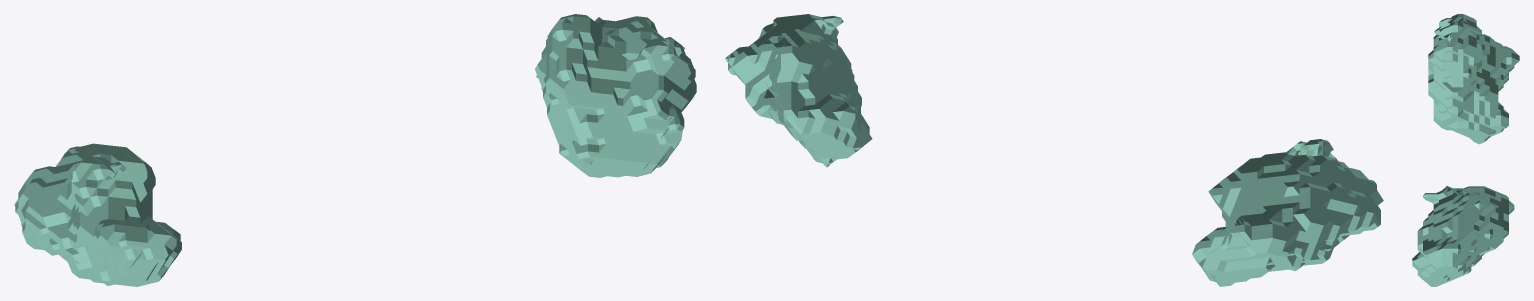
File: region_0183_Vmv__trigeminal_motor_nucleus__ventral_part_.glb
The picture shows the model from 3 angles, left to right: view 1: azimuth 30°, elevation 25°; view 2: azimuth 150°, elevation 25°; view 3: azimuth 270°, elevation 25°; orthographic projection. The views are drawn at different scales.
Visible parts, largest first — view 1: world; view 2: world; view 3: world.
Part boxes in pixels (x1=…): world: x1=14, y1=14, x2=696, y2=286; world: x1=725, y1=14, x2=1383, y2=286; world: x1=1412, y1=14, x2=1519, y2=286.
Size of the model in its own units: 0.768 by 0.152 by 0.16.
